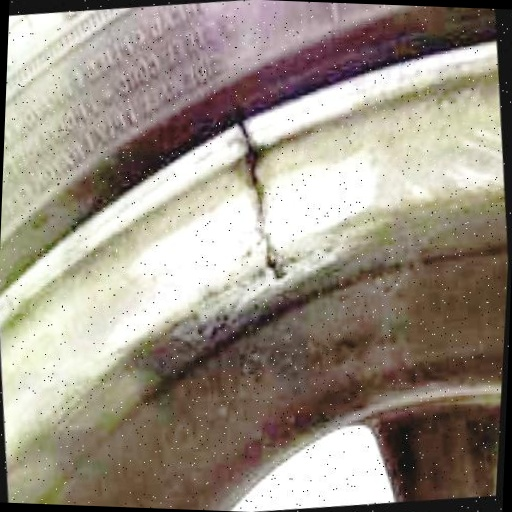crack: (210, 114, 308, 316)
